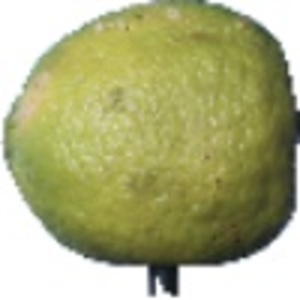limão: (2, 1, 300, 298)
